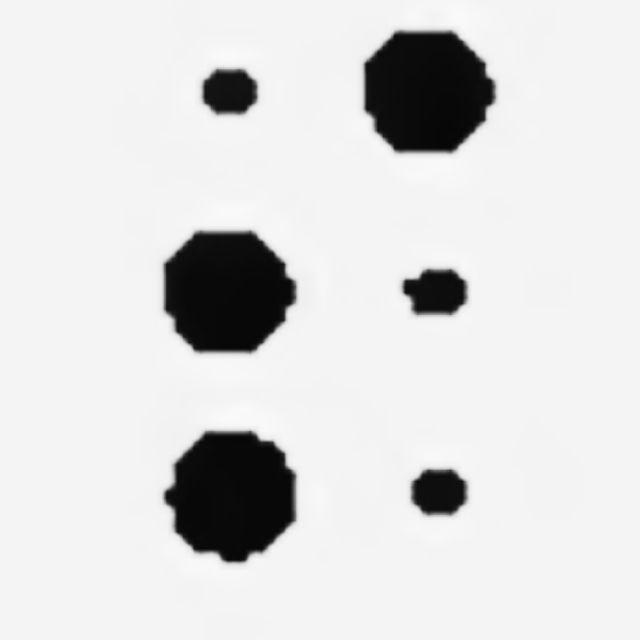s: (165, 31, 494, 559)
